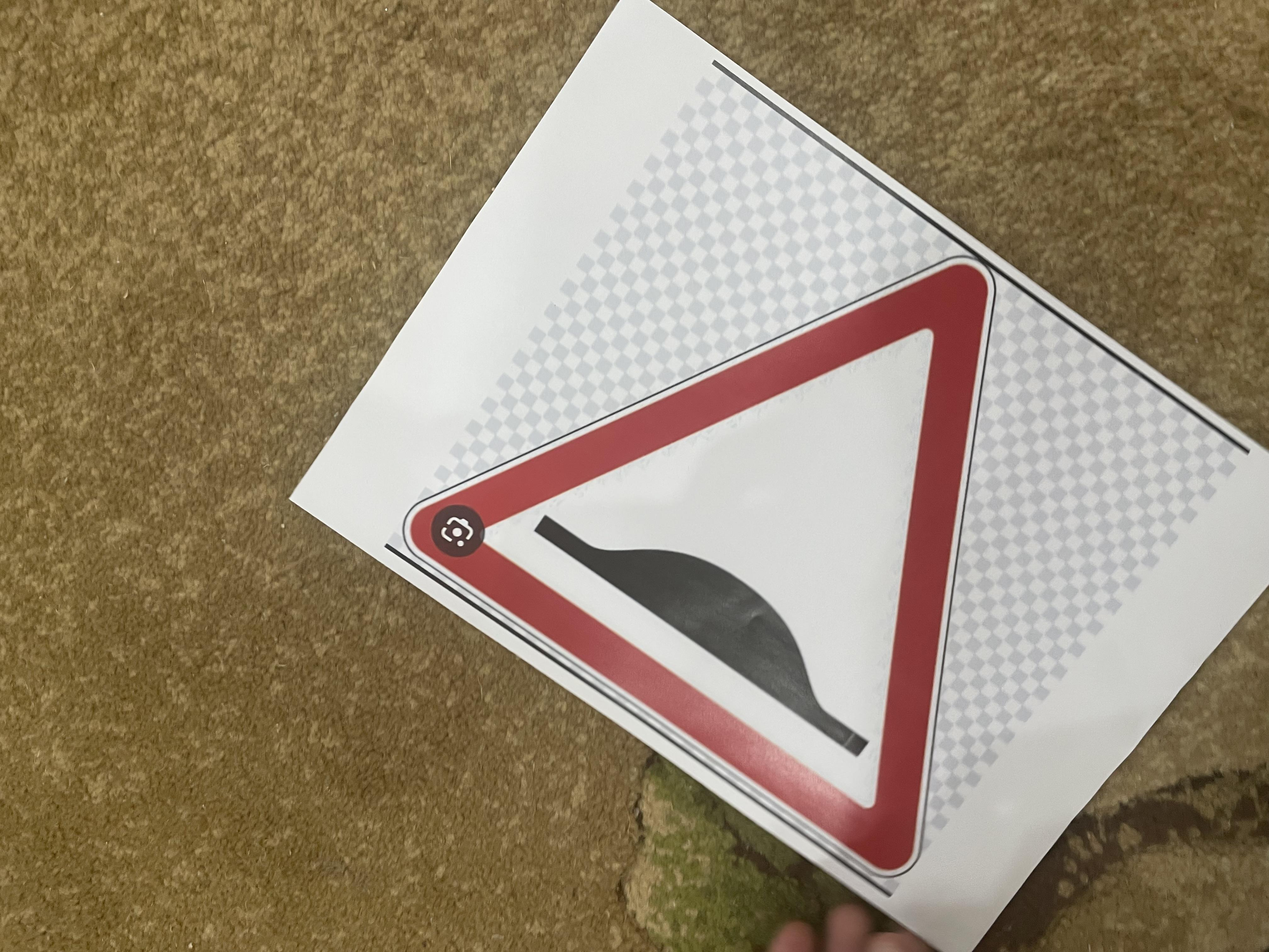Hump: (345, 201, 1184, 659)
